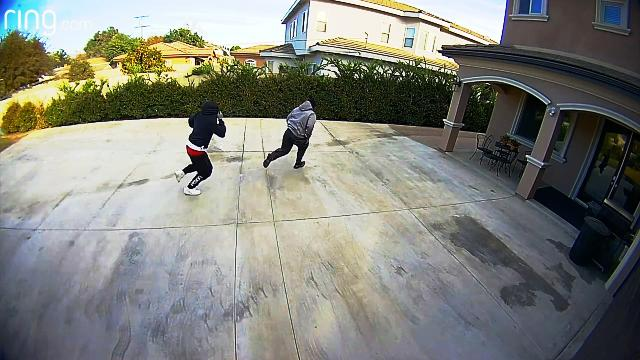berlari: (176, 100, 224, 196), (264, 96, 314, 178)
